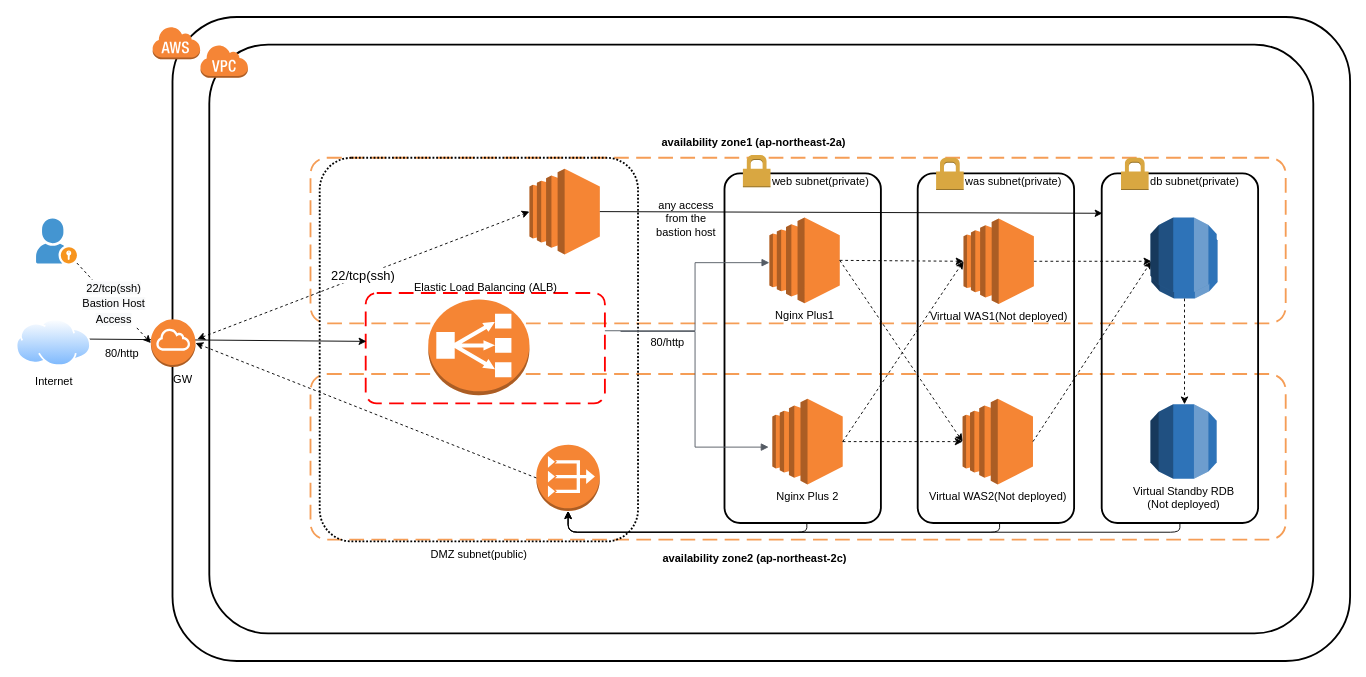
This 1366x677 diagram has some shape labels left out. The shapes that lost their labels are listed below. From the top down, each one's centre as x and y in pixels, then its label:
At (x=564, y=211): "Bastion Host".
At (x=56, y=240): "Admin".
At (x=1183, y=254): "Virtual Active RDB (Not deployed)".
At (x=567, y=477): "Nat Gatway(EIP)".
